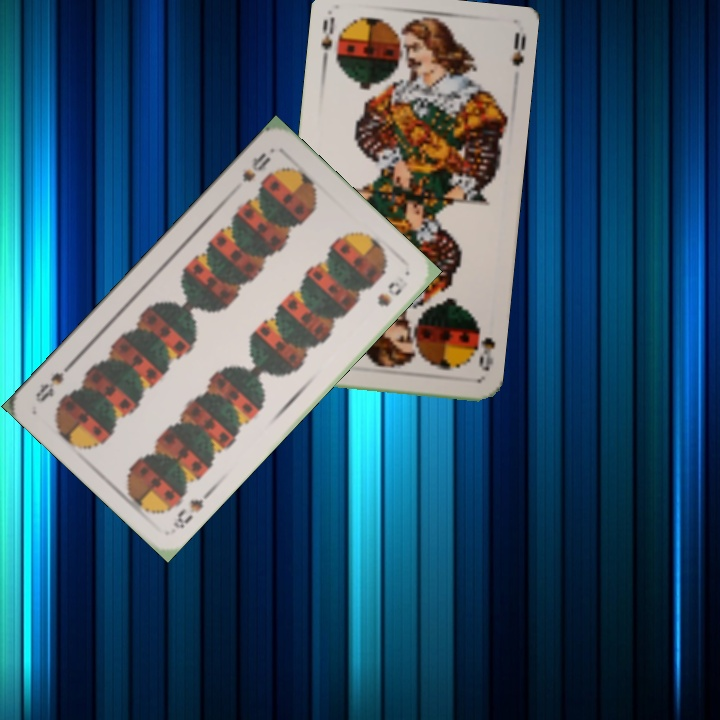S8: (168, 485, 215, 532), (238, 148, 274, 185)
SO: (317, 12, 337, 71), (475, 333, 497, 374)
